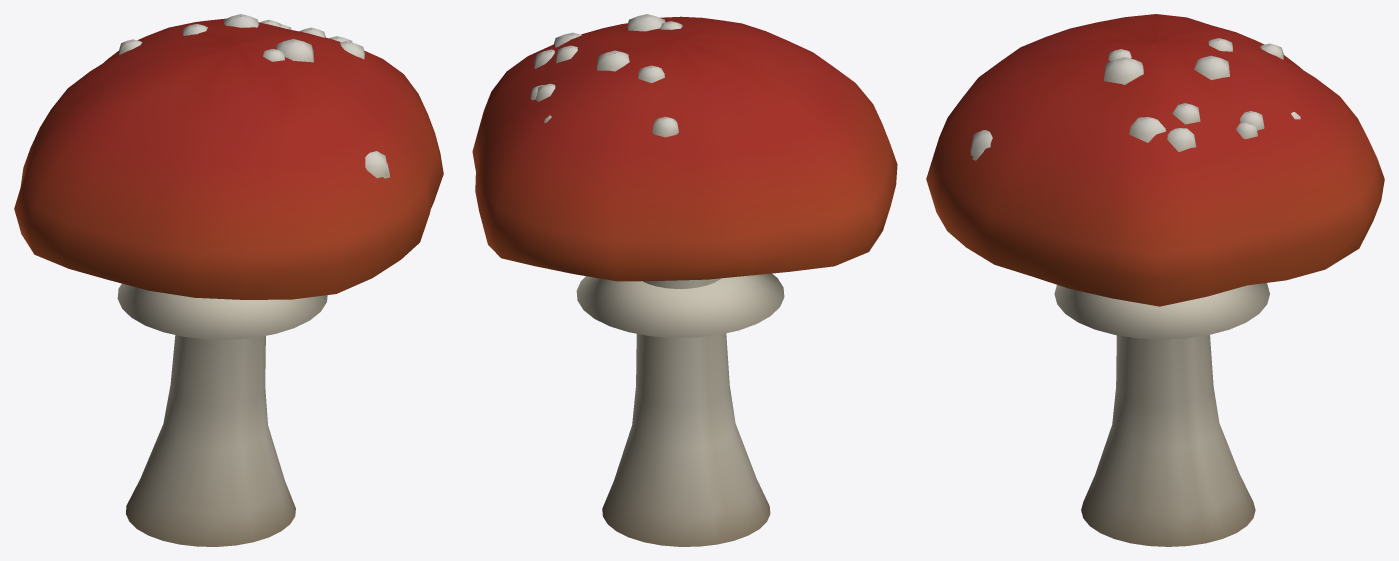
Rendered from mushroom-giant-amanita-a.glb.
3 views of the same model, side by side, from view 1: azimuth 30°, elevation 25°; view 2: azimuth 150°, elevation 25°; view 3: azimuth 270°, elevation 25° (orthographic). The views are drawn at different scales.
Parts seen in each view (by area): view 1: mushroom-giant-amanita-a; view 2: mushroom-giant-amanita-a; view 3: mushroom-giant-amanita-a.
Part boxes in pixels (<box>): mushroom-giant-amanita-a: <box>14,14,443,546</box>; mushroom-giant-amanita-a: <box>472,14,897,546</box>; mushroom-giant-amanita-a: <box>926,14,1384,546</box>.
Size of the model in its own units: 1.12 by 1.25 by 1.08.
